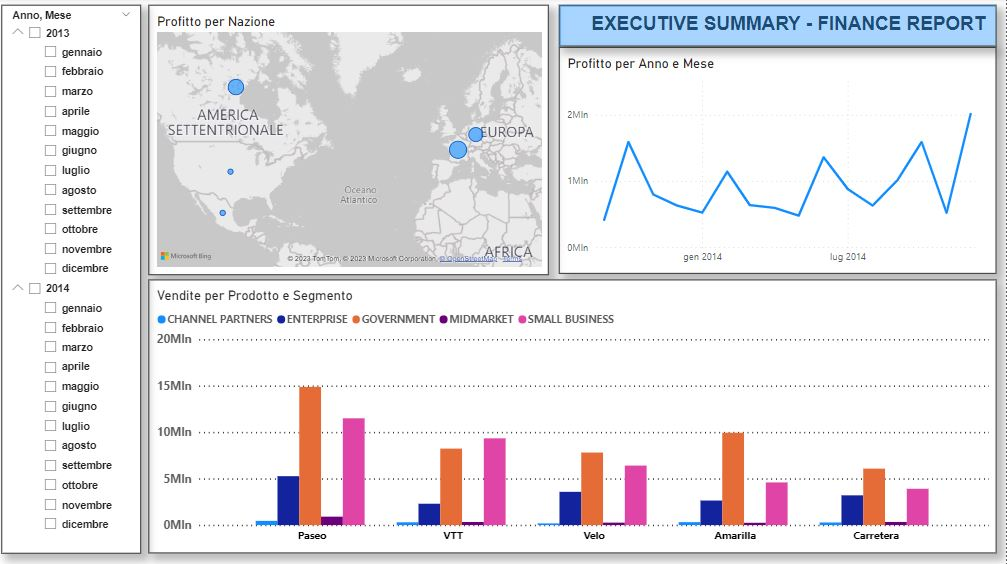

This screenshot's page, from the dashboard's own definition file:
{"tool":"powerbi","page":{"name":"Pagina 1","canvas":[1280,720],"ordinal":0},"visuals":[{"type":"textbox","box":[747.6,13.4,519.6,45.2],"z":0},{"type":"lineChart","fields":{"Y":["Sum(financials.Profit)"],"Category":["Calendar.Date.Variazione.Gerarchia data.Anno","Calendar.Date.Variazione.Gerarchia data.Mese"]},"box":[712.6,62.7,555,287.9],"z":1000},{"type":"map","fields":{"Category":["financials.Country"],"Size":["Sum(financials.Profit)"]},"box":[191.4,8,508.3,342.6],"z":2000},{"type":"clusteredColumnChart","fields":{"Y":["Sum(financials. Sales)"],"Category":["financials.Product"],"Series":["financials.Segment"]},"box":[191.4,357.1,1076.2,347.5],"z":3000},{"type":"slicer","fields":{"Values":["Calendar.Date.Variazione.Gerarchia data.Anno","Calendar.Date.Variazione.Gerarchia data.Mese"]},"box":[4.8,8,176.9,696.5],"z":4000},{"type":"shape","box":[712.6,8,555,53.1],"z":5000}]}

Visuals, with their boxes in screenshot pixels (x1, y1, x2, y2):
textbox: (x1=593, y1=3, x2=1006, y2=39)
lineChart - Sum(financials.Profit) x Calendar.Date.Variazione.Gerarchia data.Anno: (x1=565, y1=42, x2=1006, y2=273)
map - financials.Country x Sum(financials.Profit): (x1=148, y1=0, x2=555, y2=273)
clusteredColumnChart - Sum(financials. Sales) x financials.Product: (x1=148, y1=278, x2=1006, y2=556)
slicer - Calendar.Date.Variazione.Gerarchia data.Anno x Calendar.Date.Variazione.Gerarchia data.Mese: (x1=0, y1=0, x2=140, y2=556)
shape: (x1=565, y1=0, x2=1006, y2=41)
